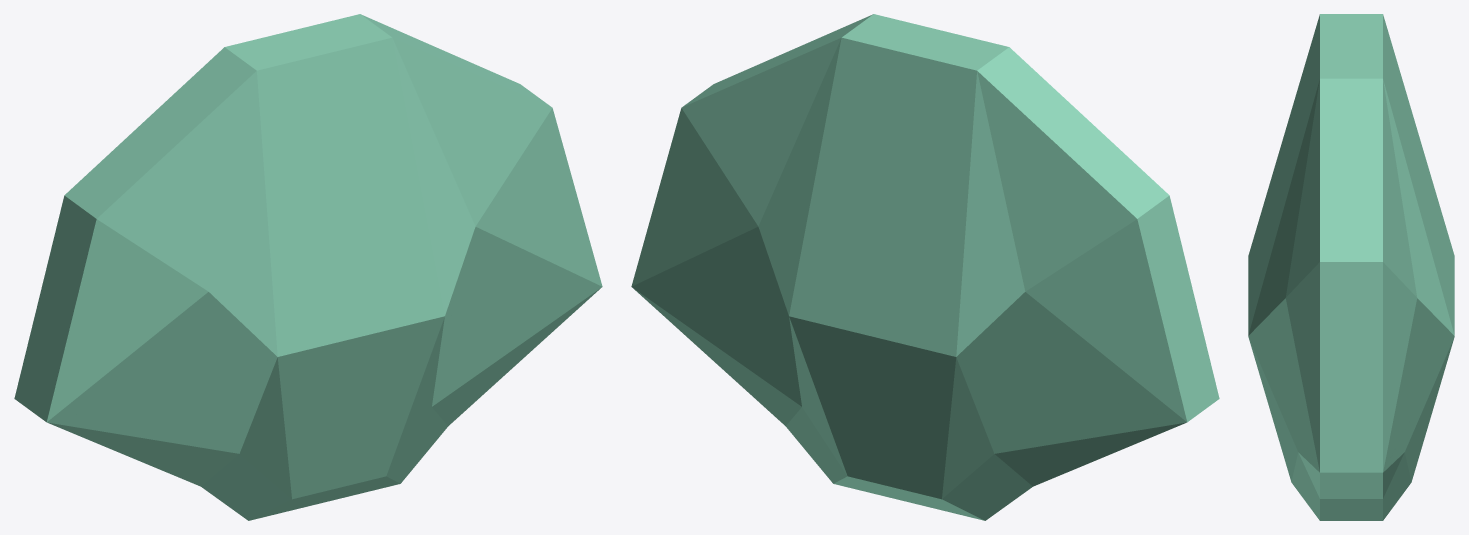
Rendered from Seashell 1 CYAN.fbx.
The picture shows the model from 3 angles, left to right: view 1: azimuth 30°, elevation 25°; view 2: azimuth 150°, elevation 25°; view 3: azimuth 270°, elevation 25°; orthographic projection. The views are drawn at different scales.
Parts seen in each view (by area): view 1: Box003; view 2: Box003; view 3: Box003.
Part boxes in pixels (x1,y1,x2,y2): Box003: (14,14,602,520); Box003: (631,14,1219,520); Box003: (1248,14,1454,520).
Bounding box in the file's own units: 33.15 × 25.54 × 10.91.
1 material, 1 textured.
